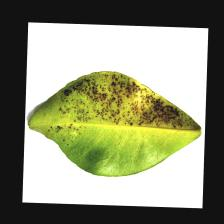canker: (79, 83, 158, 125)
